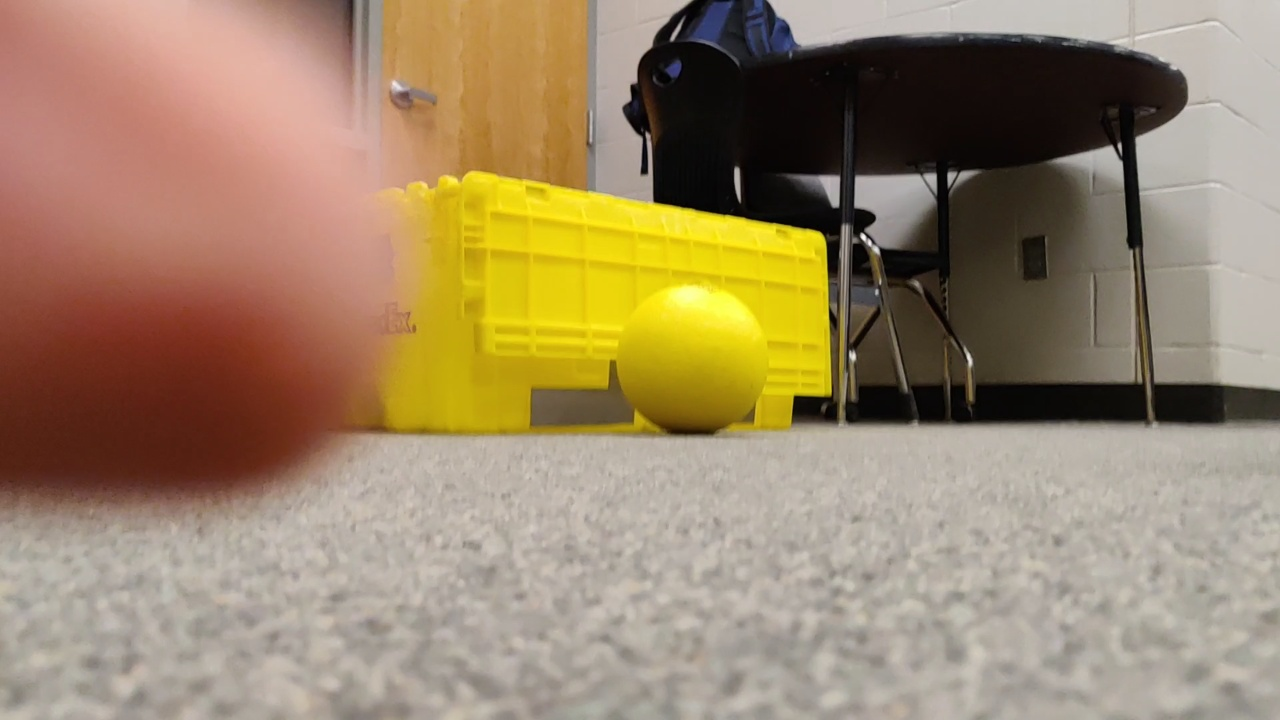Ball: (606, 283, 763, 434)
